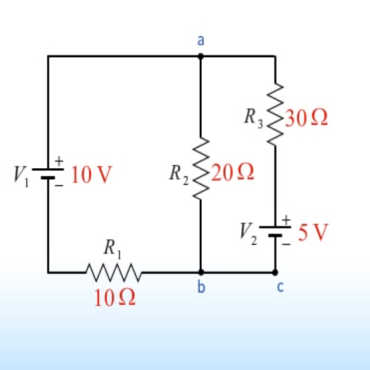Resistor: (170, 134, 255, 200), (245, 80, 330, 146), (86, 240, 144, 309)
Voltage Source: (12, 154, 113, 196), (239, 215, 329, 252)
